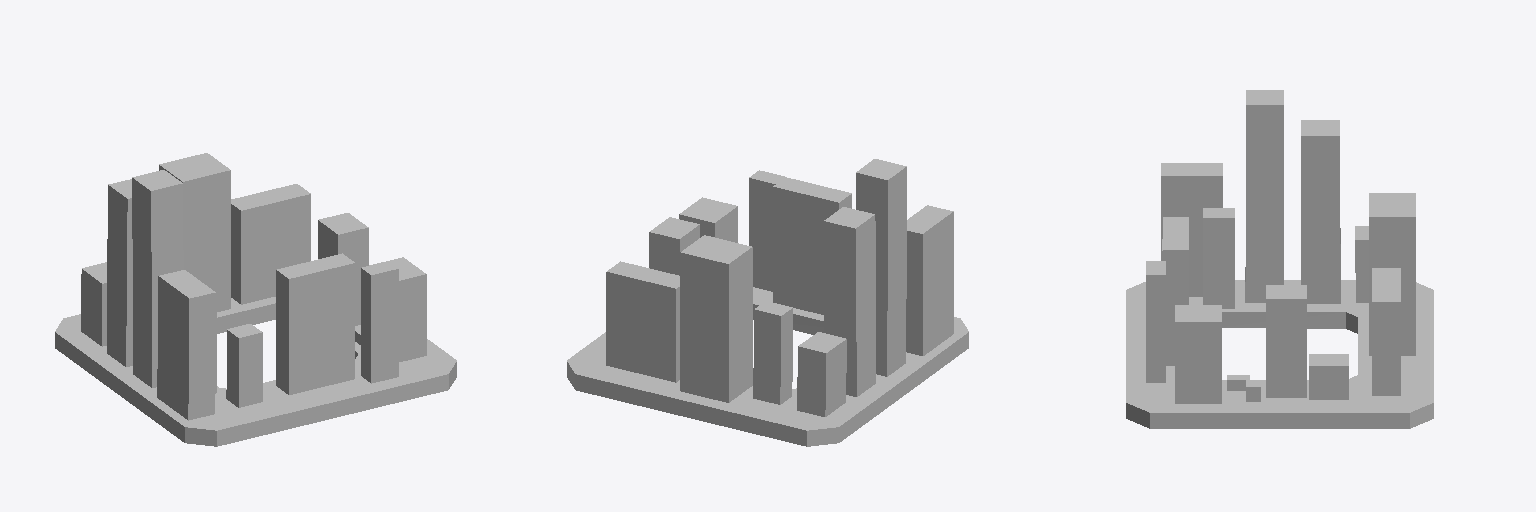
The model's file is BuildingsObject.obj.
3 views of the same model, side by side, from view 1: azimuth 30°, elevation 25°; view 2: azimuth 150°, elevation 25°; view 3: azimuth 270°, elevation 25° (orthographic).
Visible parts, largest first — view 1: Cube.004; view 2: Cube.004; view 3: Cube.004.
Boxes of the visible parts, <box> form: Cube.004: <box>55,153,456,446</box>; Cube.004: <box>567,159,968,446</box>; Cube.004: <box>1126,90,1433,428</box>.
Size of the model in its own units: 289 by 217 by 282.